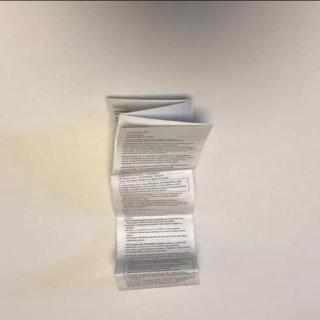Anorganik: (101, 84, 215, 296)
